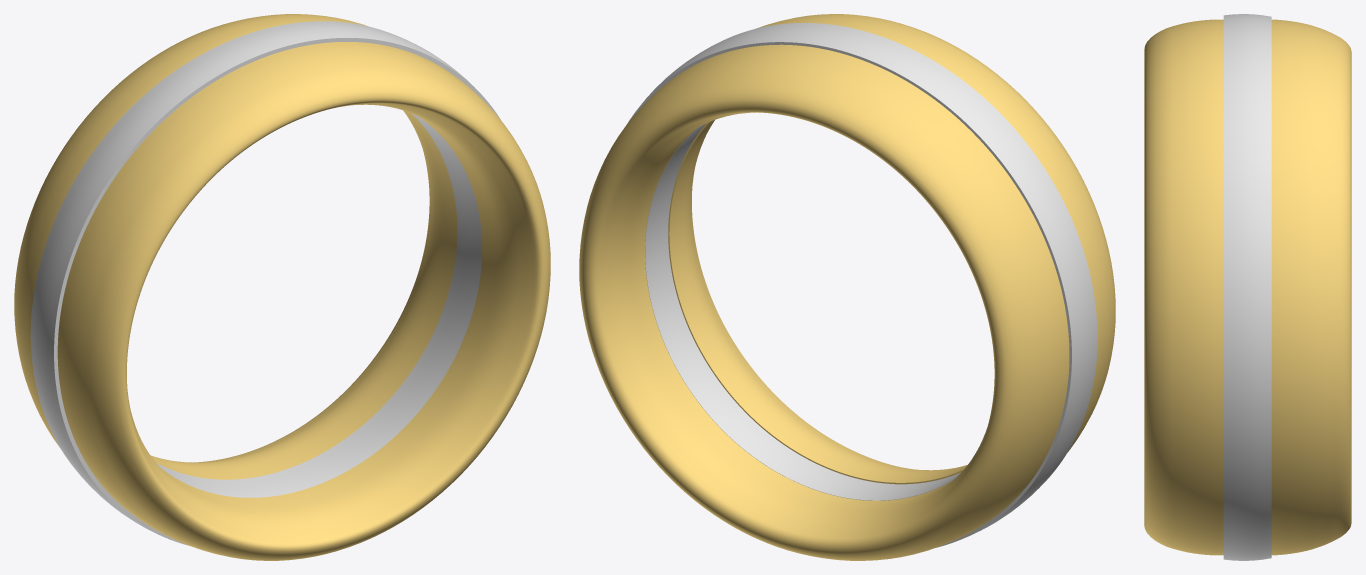
Rendered from Marc_Brigido_blender.glb.
3 views of the same model, side by side, from view 1: azimuth 30°, elevation 25°; view 2: azimuth 150°, elevation 25°; view 3: azimuth 270°, elevation 25° (orthographic).
Visible parts, largest first — view 1: YG bands, PT band; view 2: YG bands, PT band; view 3: YG bands, PT band.
Boxes of the visible parts, x1,y1,x2,y2 form: YG bands: [14, 14, 550, 560]; PT band: [30, 21, 500, 545]; YG bands: [579, 14, 1115, 560]; PT band: [627, 23, 1097, 547]; YG bands: [1144, 19, 1351, 555]; PT band: [1223, 14, 1271, 560].
Size of the model in its own units: 25.01 by 25.01 by 9.47.
